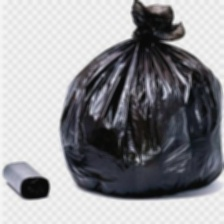plastic_bag: (58, 0, 223, 204), (0, 157, 55, 202)
